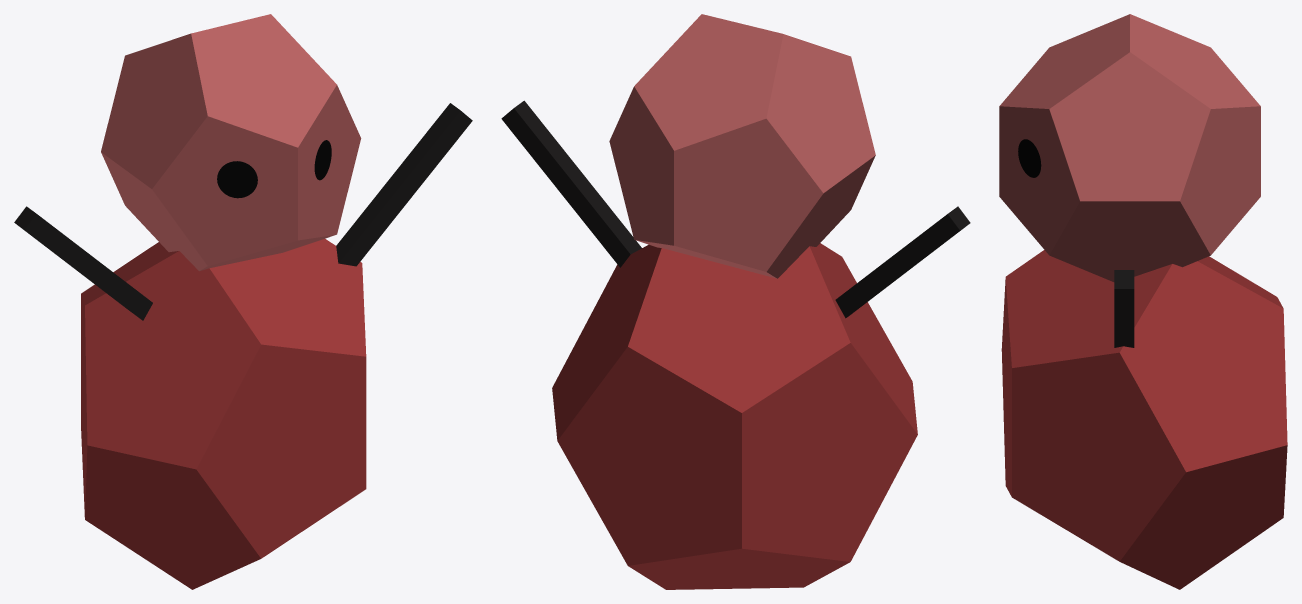
Rendered from blubble_red.glb.
The picture shows the model from 3 angles, left to right: view 1: azimuth 30°, elevation 25°; view 2: azimuth 150°, elevation 25°; view 3: azimuth 270°, elevation 25°; orthographic projection. The views are drawn at different scales.
Parts seen in each view (by area): view 1: Dodecahedron_1, Dodecahedron, Box, Box_1, Eye; view 2: Dodecahedron_1, Dodecahedron, Box, Box_1; view 3: Dodecahedron_1, Dodecahedron, Box, Eye_1.
Boxes of the visible parts, <box> form: Dodecahedron_1: <box>81,239,366,589</box>; Dodecahedron: <box>101,14,361,271</box>; Box: <box>336,103,472,266</box>; Box_1: <box>14,206,152,320</box>; Eye: <box>217,161,257,198</box>; Dodecahedron_1: <box>552,243,917,589</box>; Dodecahedron: <box>609,14,875,278</box>; Box: <box>501,100,641,267</box>; Box_1: <box>835,206,970,318</box>; Dodecahedron_1: <box>1001,250,1287,589</box>; Dodecahedron: <box>999,14,1260,281</box>; Box: <box>1114,270,1134,347</box>; Eye_1: <box>1018,139,1041,177</box>.
Bounding box in the file's own units: 0.2529 × 0.2945 × 0.1441.
